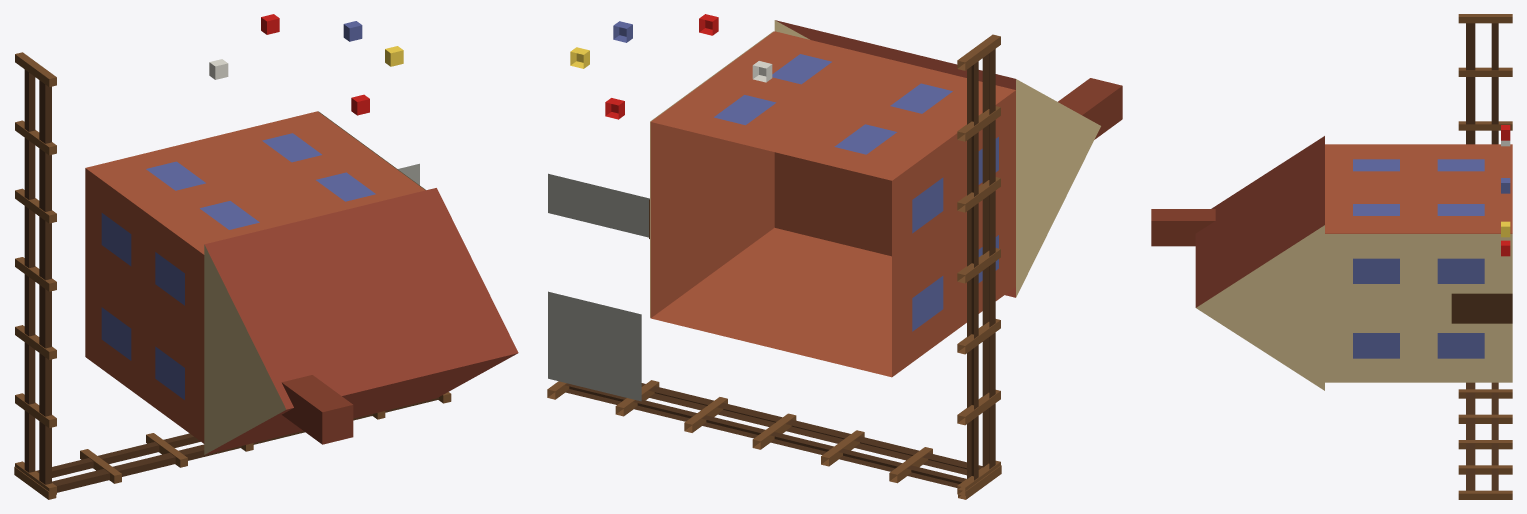
File: complete.glb
The picture shows the model from 3 angles, left to right: view 1: azimuth 30°, elevation 25°; view 2: azimuth 150°, elevation 25°; view 3: azimuth 270°, elevation 25°; orthographic projection. The views are drawn at different scales.
Visible parts, largest first — view 1: done; view 2: done; view 3: done.
Part boxes in pixels (left/top/right/bottom): done: left=14, top=14, right=518, bottom=499; done: left=547, top=14, right=1122, bottom=499; done: left=1151, top=14, right=1512, bottom=499.
Bounding box in the file's own units: 15.65 × 15.58 × 15.4.
